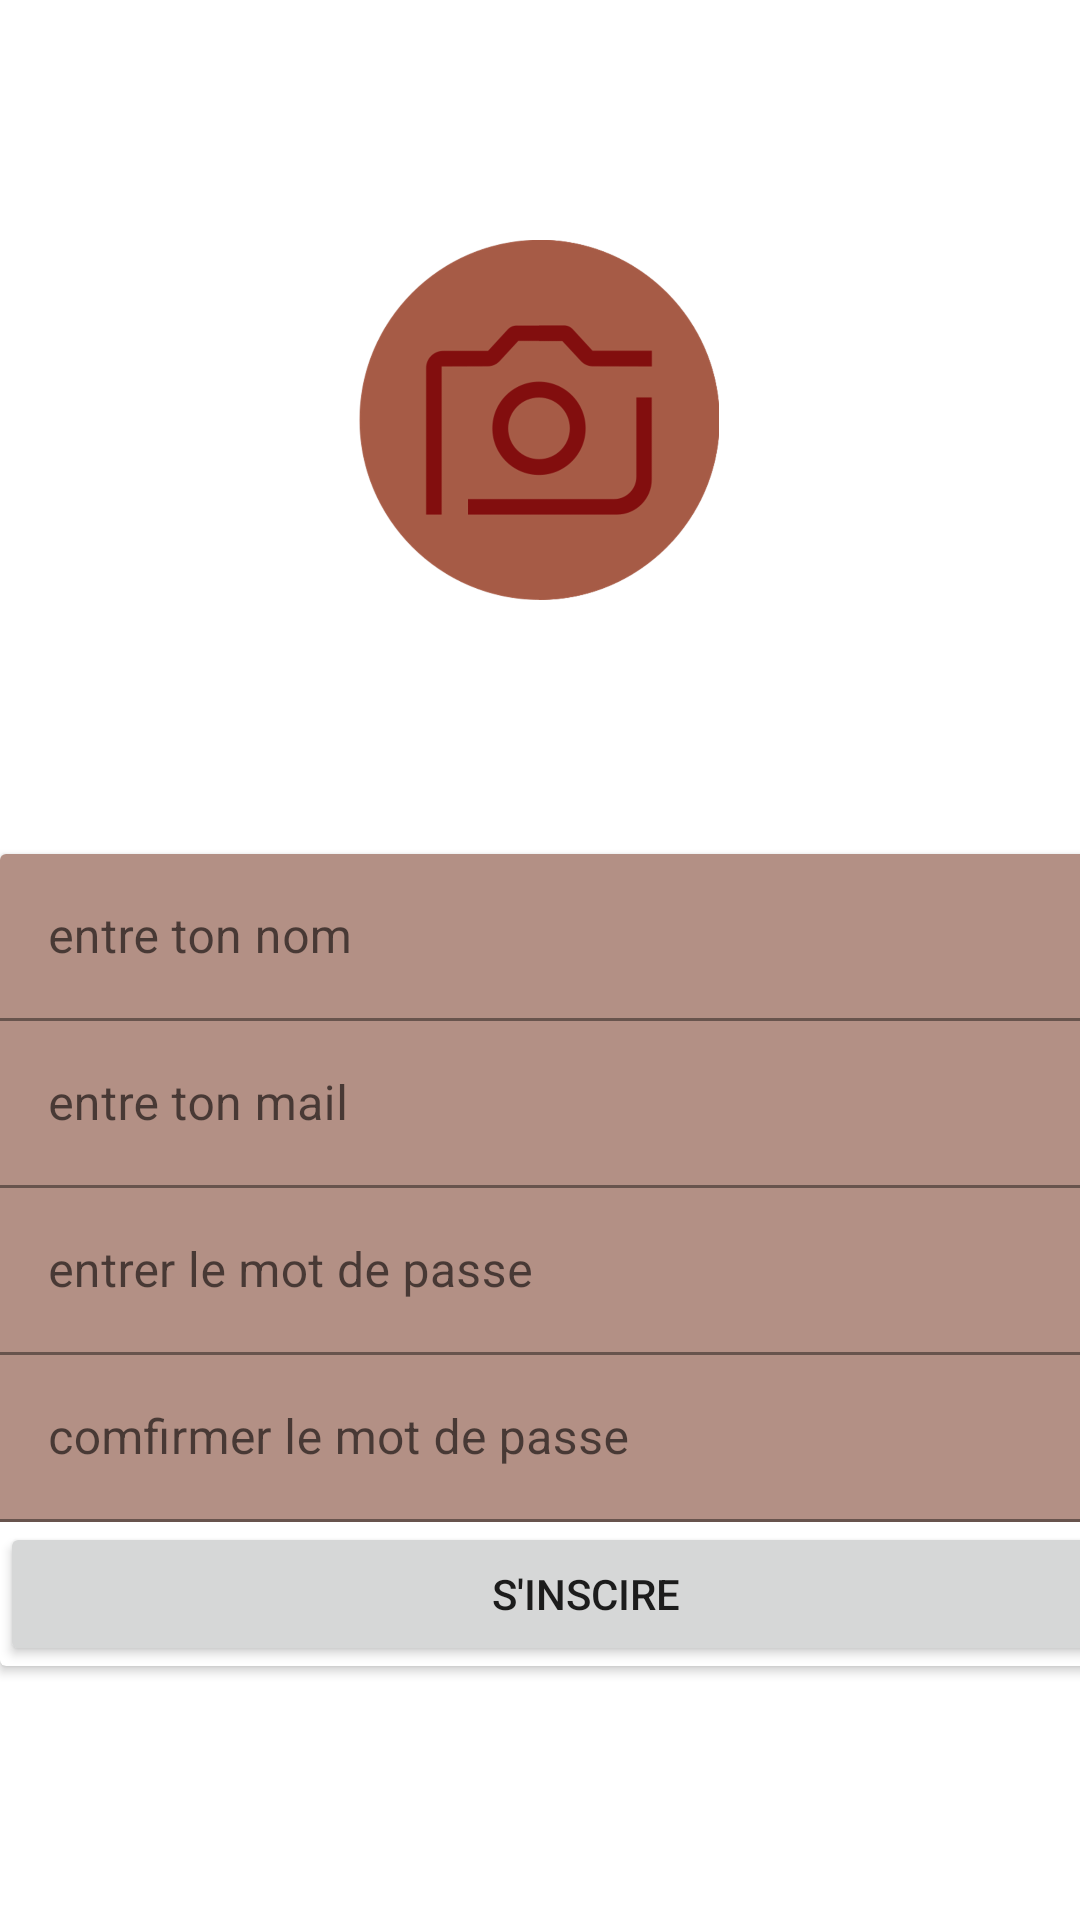

Where to tap for icons on this 1080w x 1920h app screen, as point (x, y):
camera: point (539, 420)
